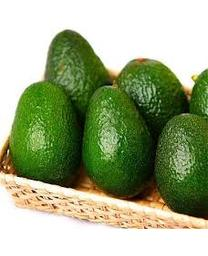avocado: (8, 81, 84, 188), (84, 85, 153, 197), (116, 59, 189, 142), (46, 30, 112, 114), (155, 113, 207, 219)
